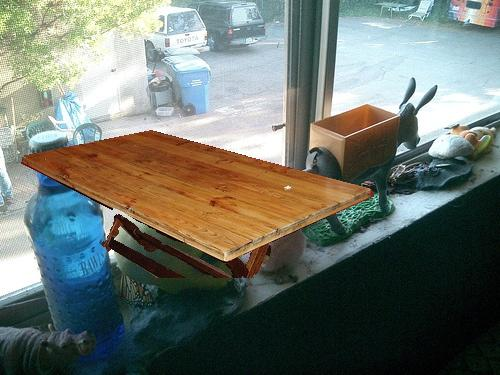tampered: (22, 131, 374, 278)
